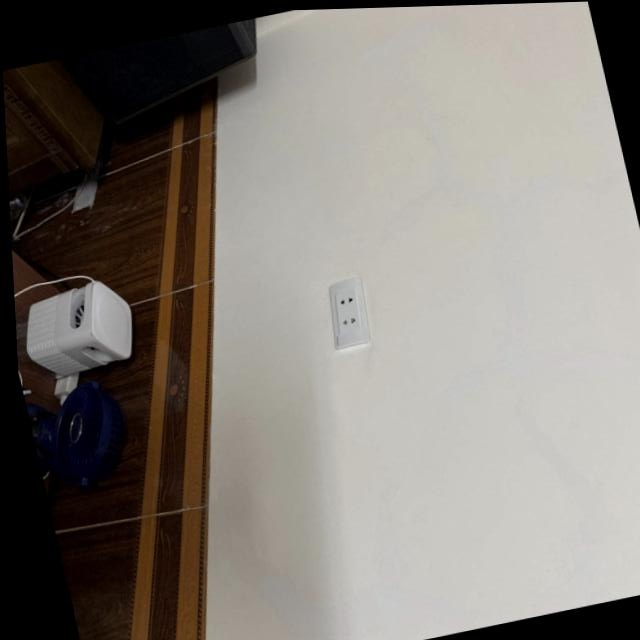outlet: (322, 275, 378, 351)
